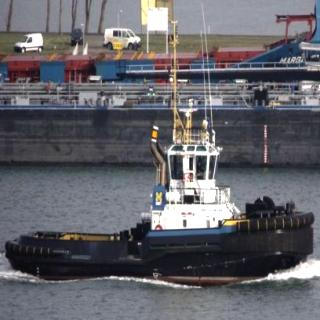Tug Boat: (3, 132, 320, 278)
